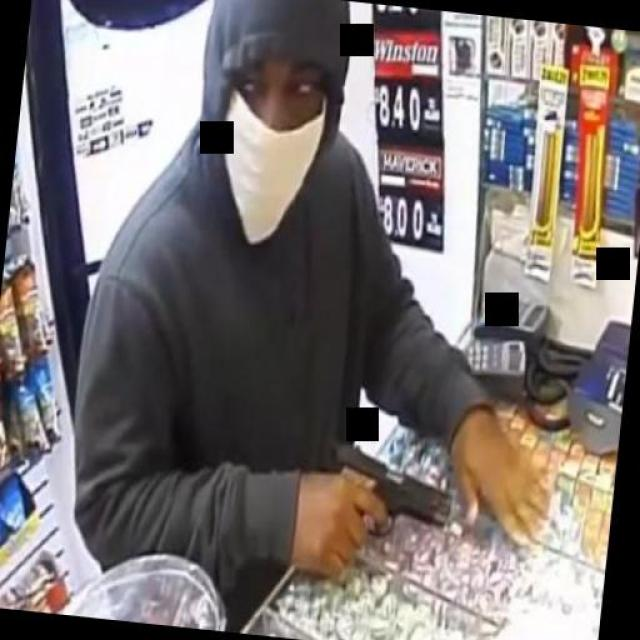gun: (314, 438, 456, 588)
